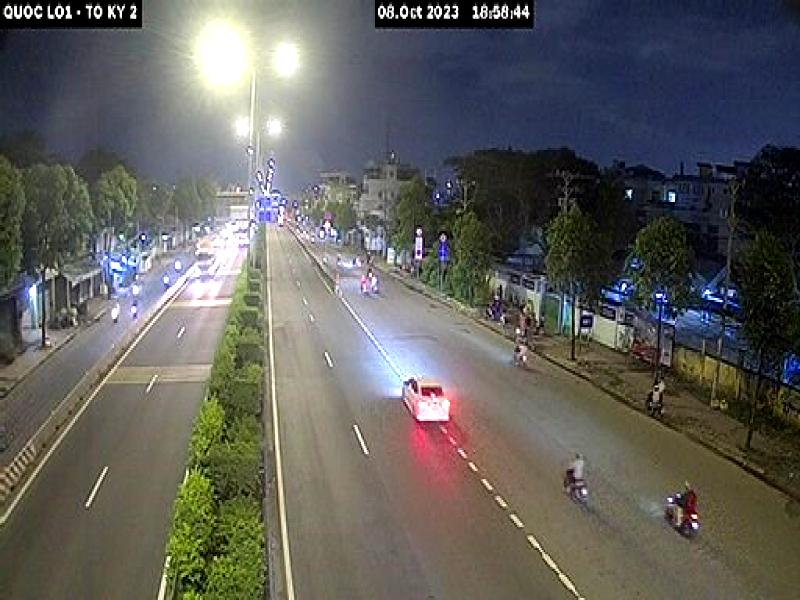car: (400, 374, 458, 437)
